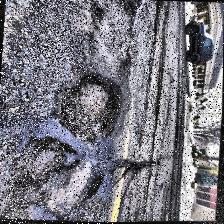pothole: (52, 70, 126, 144), (12, 134, 82, 190), (48, 160, 108, 216), (10, 195, 70, 221)
